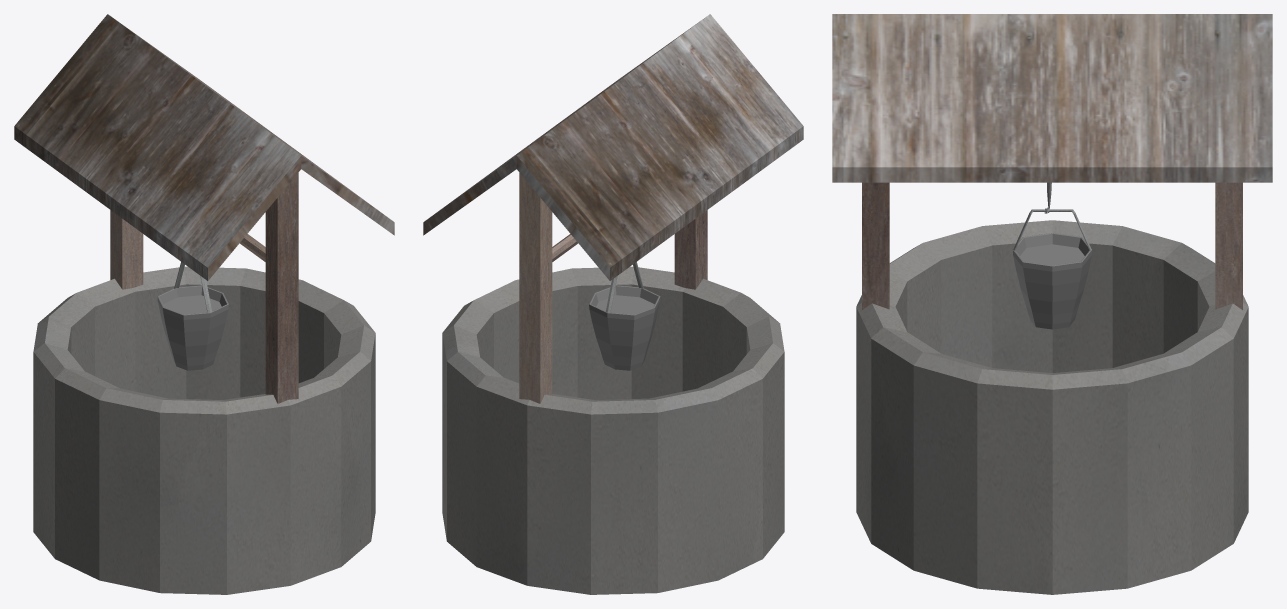
File: Brunnen.obj
The picture shows the model from 3 angles, left to right: view 1: azimuth 30°, elevation 25°; view 2: azimuth 150°, elevation 25°; view 3: azimuth 270°, elevation 25°; orthographic projection. The views are drawn at different scales.
Visible parts, largest first — view 1: Brunnen_Low; view 2: Brunnen_Low; view 3: Brunnen_Low.
Part boxes in pixels (x1,y1,x2,y2): Brunnen_Low: [14, 14, 394, 594]; Brunnen_Low: [423, 14, 803, 594]; Brunnen_Low: [832, 14, 1272, 594].
Size of the model in its own units: 1.4 by 1.96 by 1.57.
